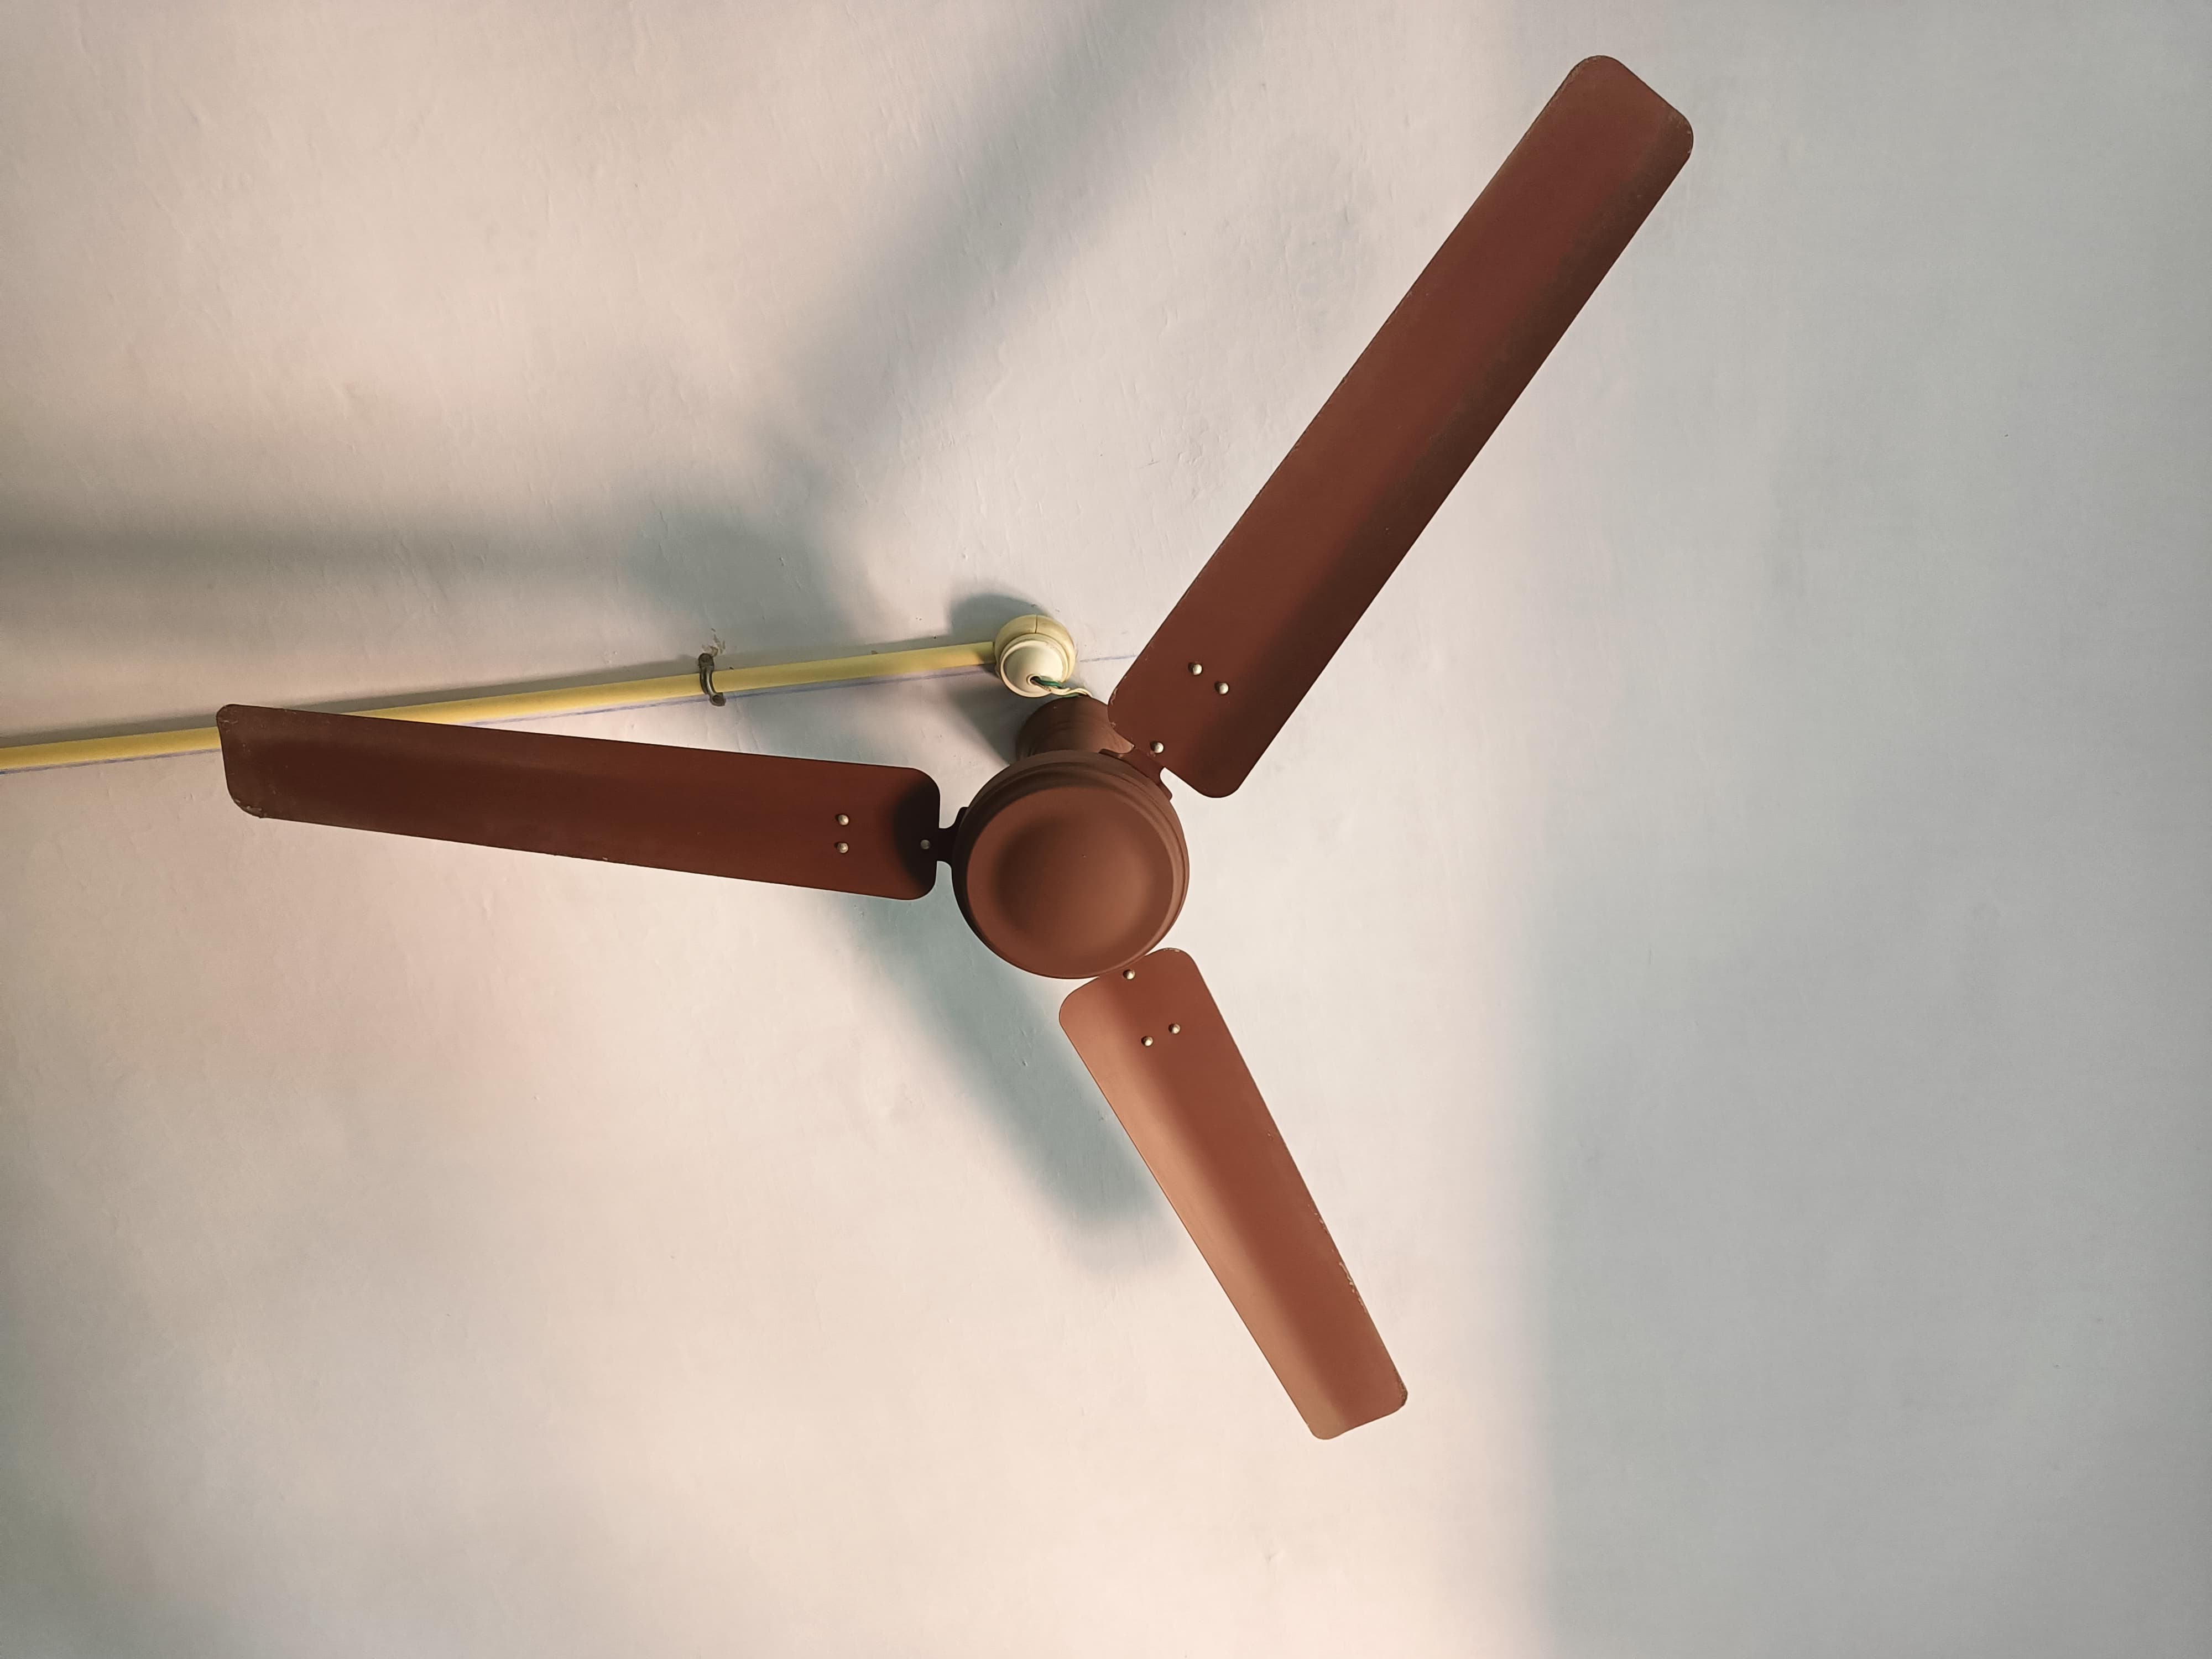Fan: (223, 58, 1700, 1438)
